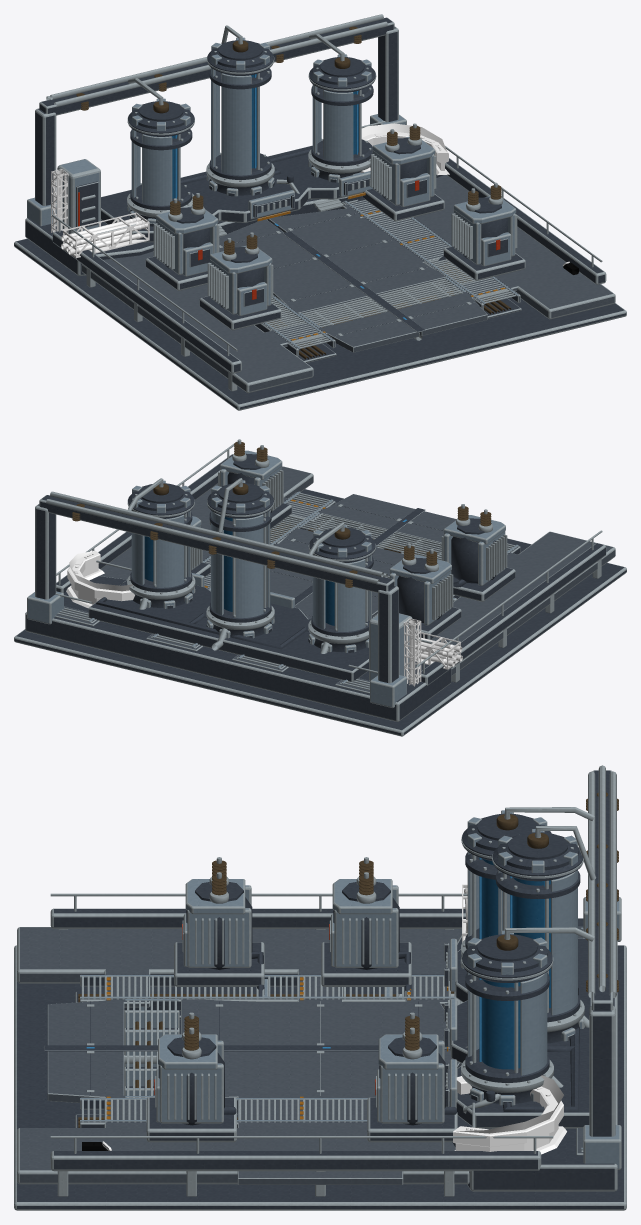
Rendered from CapacitorField.fbx.
3 renders of one model, top to bottom at view 1: azimuth 30°, elevation 25°; view 2: azimuth 150°, elevation 25°; view 3: azimuth 270°, elevation 25°, orthographic. The views are drawn at different scales.
Visible parts, largest first — view 1: CF_deck_0, CF_pressure vessels_1, CF_deck_-1, CF_distribution_2, CF_distribution_0, CF_deck_-2, CF_service structure_-1, CF_distribution_-2, CF_donor service_1, CF_distribution_-1, CF_service structure_1, CF_deck_1 (+1 smaller); view 2: CF_pressure vessels_1, CF_deck_0, CF_distribution_2, CF_deck_1, CF_deck_-1, CF_deck_-2, CF_service structure_-1, CF_distribution_-1, CF_distribution_0, CF_donor service_1, CF_distribution_-2, CF_distribution_1 (+3 smaller); view 3: CF_deck_0, CF_pressure vessels_1, CF_deck_-1, CF_service structure_-1, CF_distribution_0, CF_deck_-2, CF_distribution_2, CF_distribution_-1, CF_distribution_-2, CF_deck_1, CF_donor service_1, CF_distribution_1.
Boxes of the visible parts, <box> form: CF_deck_0: <box>14,192,626,410</box>; CF_pressure vessels_1: <box>101,40,376,242</box>; CF_deck_-1: <box>81,175,615,393</box>; CF_distribution_2: <box>27,14,406,226</box>; CF_distribution_0: <box>145,123,444,290</box>; CF_deck_-2: <box>263,268,518,352</box>; CF_service structure_-1: <box>52,125,606,373</box>; CF_distribution_-2: <box>225,182,525,315</box>; CF_donor service_1: <box>51,123,449,258</box>; CF_distribution_-1: <box>199,213,460,330</box>; CF_service structure_1: <box>57,156,458,287</box>; CF_deck_1: <box>25,174,443,275</box>; CF_pressure vessels_1: <box>88,480,376,681</box>; CF_deck_0: <box>14,489,626,736</box>; CF_distribution_2: <box>27,491,406,707</box>; CF_deck_1: <box>25,576,451,721</box>; CF_deck_-1: <box>99,466,615,675</box>; CF_deck_-2: <box>273,492,518,562</box>; CF_service structure_-1: <box>56,441,606,685</box>; CF_distribution_-1: <box>218,472,515,601</box>; CF_distribution_0: <box>191,516,461,639</box>; CF_donor service_1: <box>66,550,462,686</box>; CF_distribution_-2: <box>209,439,507,567</box>; CF_distribution_1: <box>96,478,344,649</box>; CF_deck_0: <box>14,945,626,1210</box>; CF_pressure vessels_1: <box>444,810,591,1128</box>; CF_deck_-1: <box>17,927,469,1184</box>; CF_service structure_-1: <box>50,893,553,1171</box>; CF_distribution_0: <box>321,857,457,1142</box>; CF_deck_-2: <box>47,968,194,1127</box>; CF_distribution_2: <box>583,765,621,1169</box>; CF_distribution_-1: <box>174,857,264,1119</box>; CF_distribution_-2: <box>146,914,236,1142</box>; CF_deck_1: <box>442,918,617,1191</box>; CF_donor service_1: <box>453,884,566,1154</box>; CF_distribution_1: <box>444,807,596,1114</box>.
Bounding box in the file's own units: 20.06 × 9.22 × 20.
